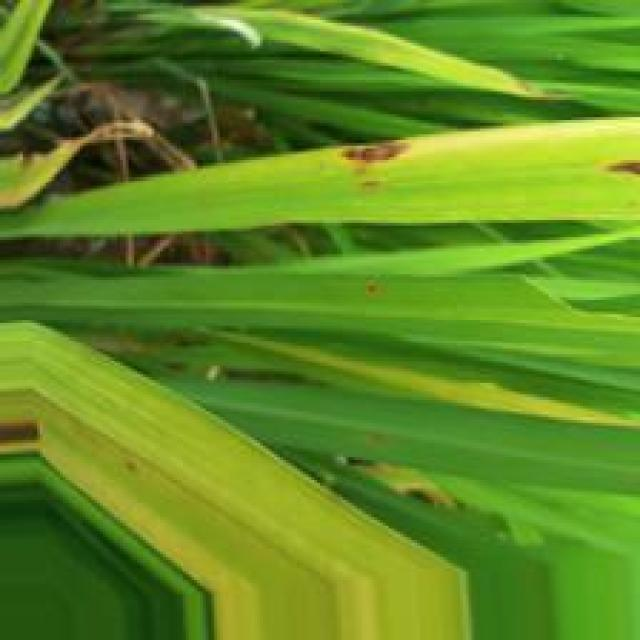Narrow_Brown_Leaf_Spot: (326, 143, 417, 202), (601, 159, 640, 183)
